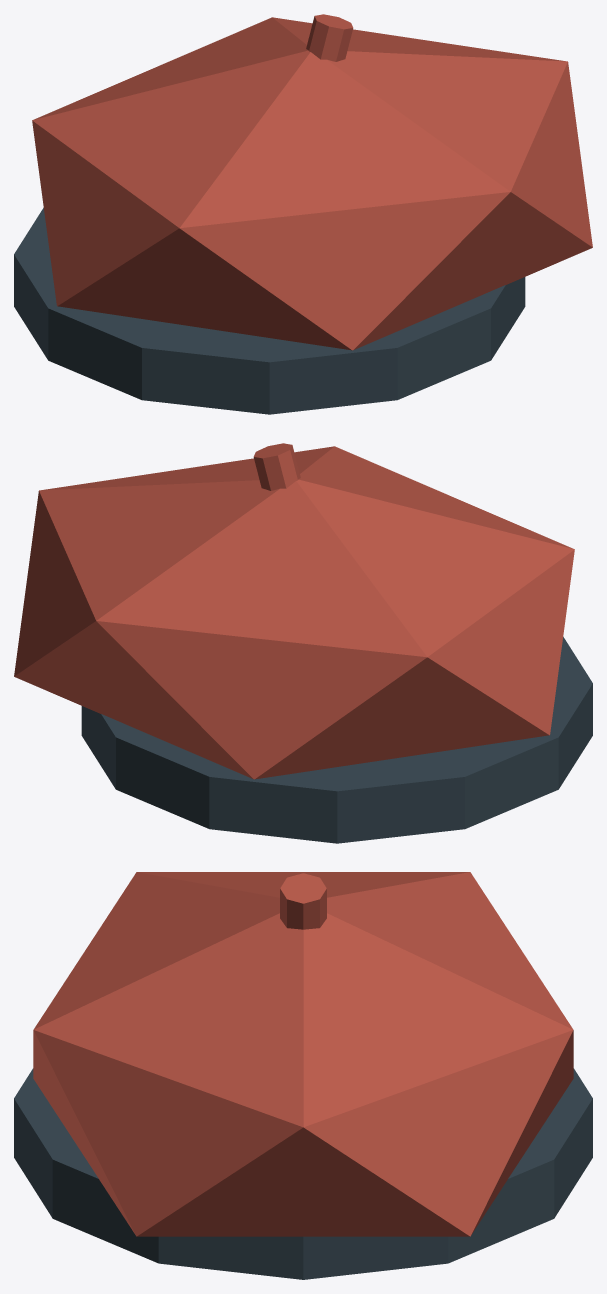
Rendered from hat_beret.glb.
3 views of the same model, one above another, from view 1: azimuth 30°, elevation 25°; view 2: azimuth 150°, elevation 25°; view 3: azimuth 270°, elevation 25° (orthographic). The views are drawn at different scales.
Visible parts, largest first — view 1: beret, band, stem; view 2: beret, band, stem; view 3: beret, band, stem.
Boxes of the visible parts, x1,y1,x2,y2 form: beret: (32,17,592,350); band: (14,208,525,414); stem: (306,14,353,61); beret: (14,446,574,779); band: (81,637,592,843); stem: (253,443,300,490); beret: (33,872,573,1236); band: (14,1068,592,1279); stem: (280,873,326,929).
Size of the model in its own units: 0.7278 by 0.3969 by 0.62.
